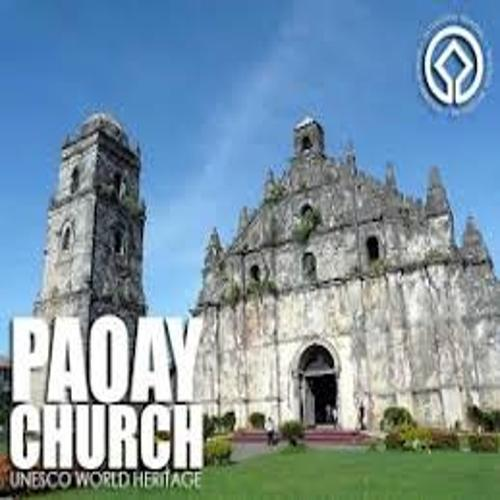Paoay Church: (32, 104, 500, 450)
